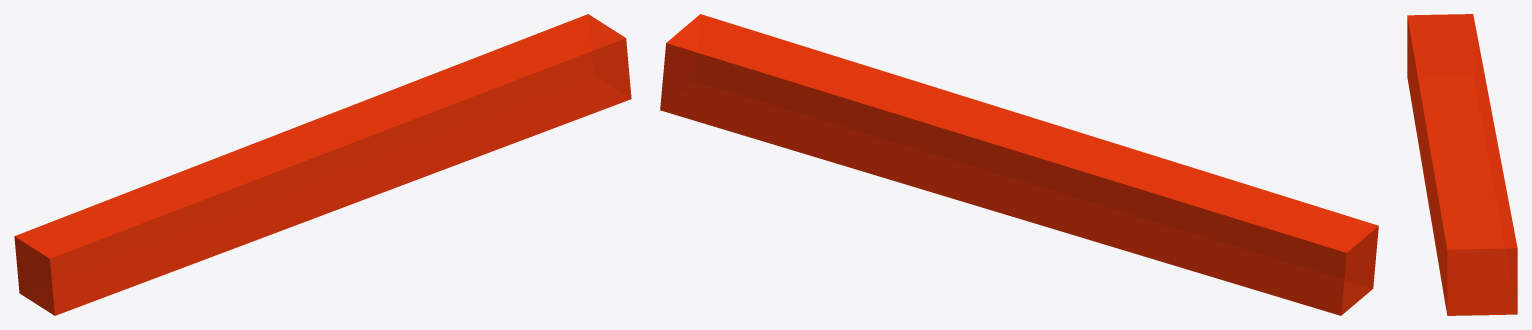
File: Event_420094457_EErechit_34.fbx
3 views of the same model, side by side, from view 1: azimuth 30°, elevation 25°; view 2: azimuth 150°, elevation 25°; view 3: azimuth 270°, elevation 25° (orthographic). The views are drawn at different scales.
Visible parts, largest first — view 1: Model; view 2: Model; view 3: Model.
Boxes of the visible parts, left/top/right/bottom form: Model: left=14, top=14, right=631, bottom=315; Model: left=660, top=14, right=1378, bottom=315; Model: left=1407, top=14, right=1517, bottom=315.
Size of the model in its own units: 0.7825 by 0.148 by 0.1212.
